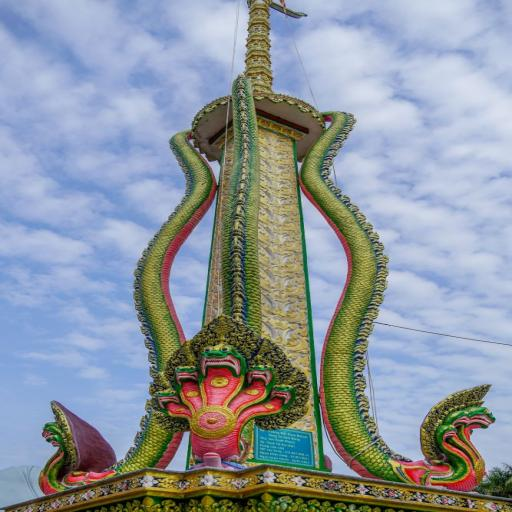la: (147, 315, 306, 470), (415, 386, 511, 488), (42, 395, 122, 494)
